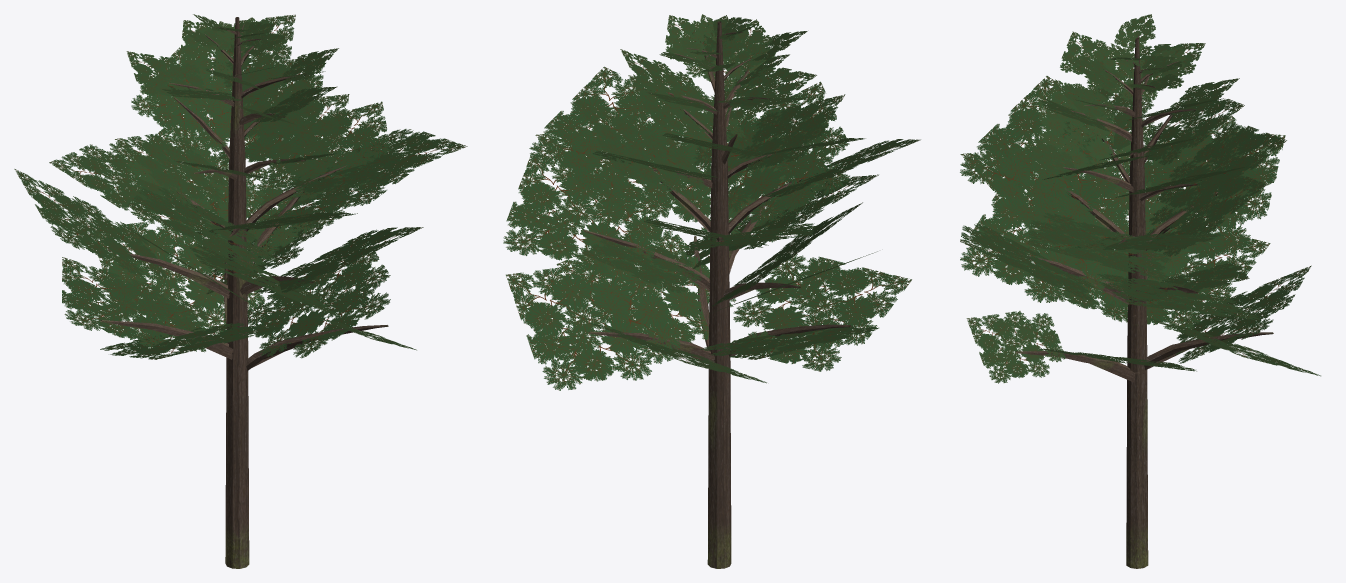
Rendered from Tree05.fbx.
The picture shows the model from 3 angles, left to right: view 1: azimuth 30°, elevation 25°; view 2: azimuth 150°, elevation 25°; view 3: azimuth 270°, elevation 25°; orthographic projection. The views are drawn at different scales.
Visible parts, largest first — view 1: Tree05; view 2: Tree05; view 3: Tree05.
Boxes of the visible parts, <box> form: Tree05: <box>14,14,467,568</box>; Tree05: <box>503,14,920,568</box>; Tree05: <box>960,14,1320,568</box>.
Size of the model in its own units: 9.8 by 13.88 by 9.
